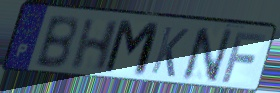B: (32, 15, 79, 71)
F: (219, 30, 269, 85)
H: (67, 18, 123, 73)
K: (148, 24, 191, 79)
M: (100, 18, 163, 80)
N: (179, 26, 236, 84)
